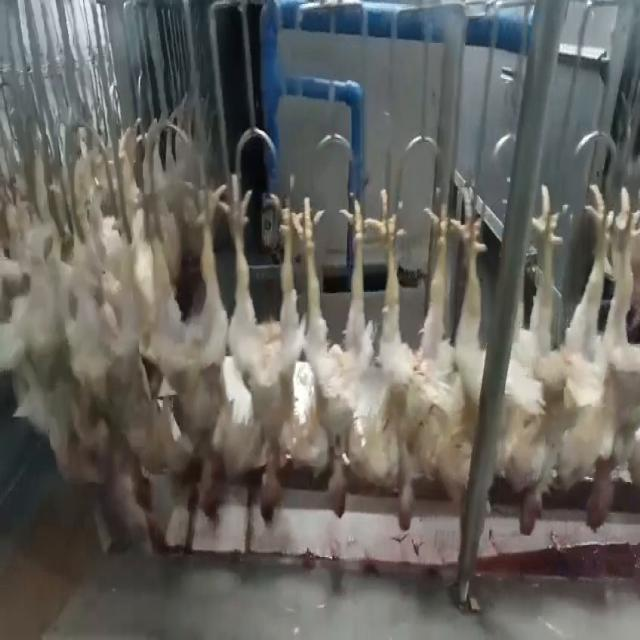chicken: (215, 177, 304, 531), (131, 183, 221, 529), (363, 182, 449, 526), (297, 188, 376, 520), (505, 177, 576, 541), (432, 166, 508, 504), (577, 175, 638, 540)
